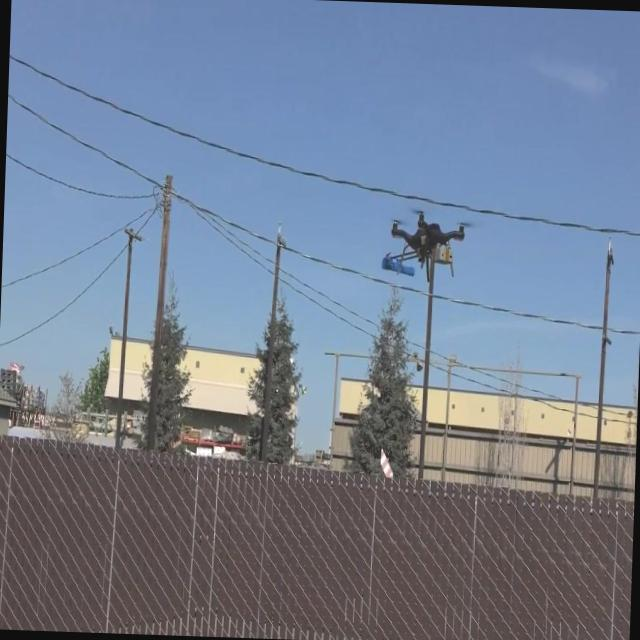drone: (380, 204, 467, 286)
